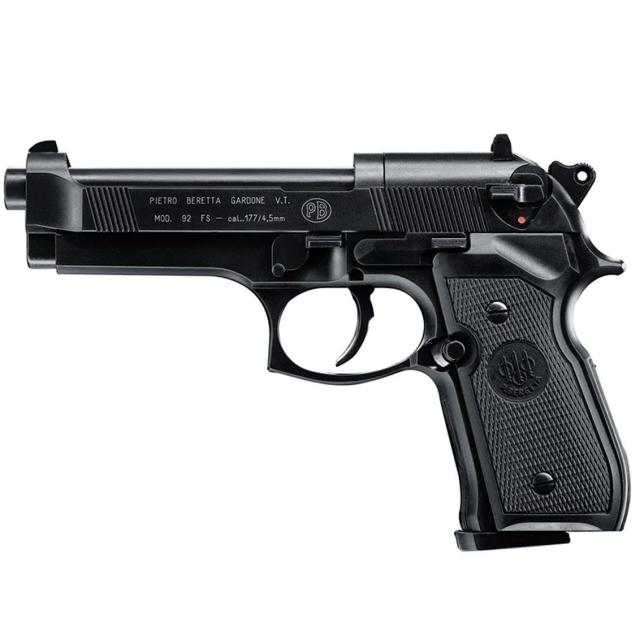Gun: (0, 127, 639, 542)
